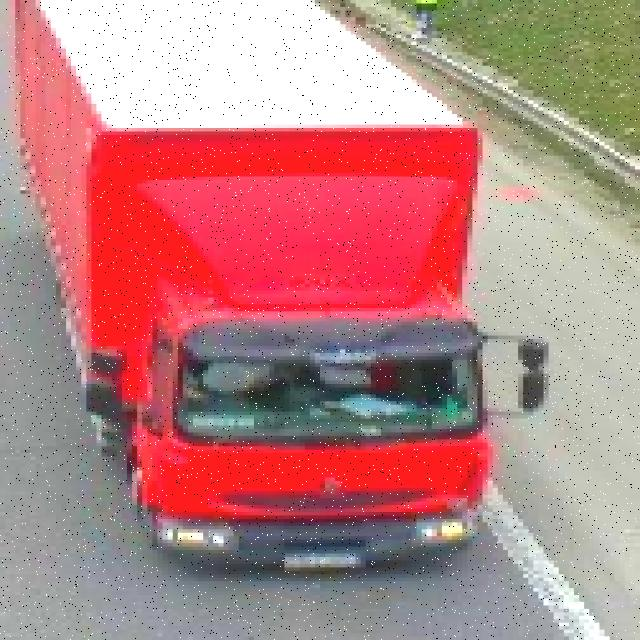truck: (10, 0, 543, 574)
